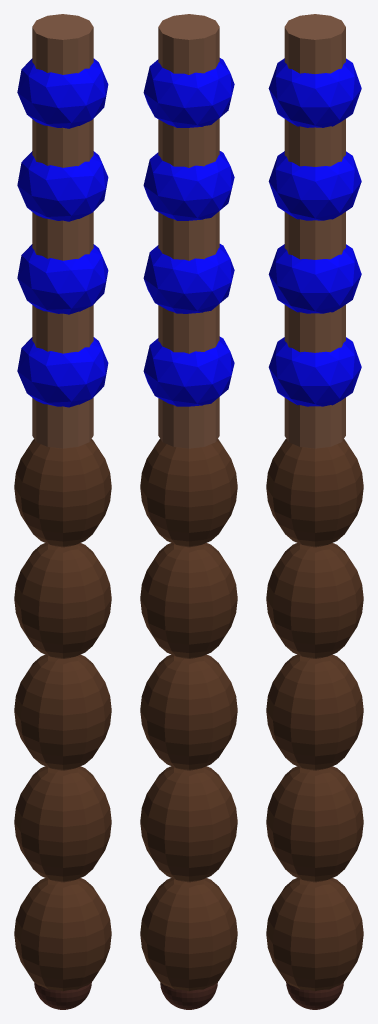
The model's file is Wand 233.glb.
3 renders of one model, left to right at view 1: azimuth 30°, elevation 25°; view 2: azimuth 210°, elevation 25°; view 3: azimuth 270°, elevation 25°, orthographic.
Visible parts, largest first — view 1: GeneratedWand; view 2: GeneratedWand; view 3: GeneratedWand.
Part boxes in pixels (x1,y1,x2,y2): GeneratedWand: (14,14,111,1009); GeneratedWand: (140,14,237,1009); GeneratedWand: (266,14,363,1009).
Size of the model in its own units: 0.0447 by 0.4978 by 0.0449.
